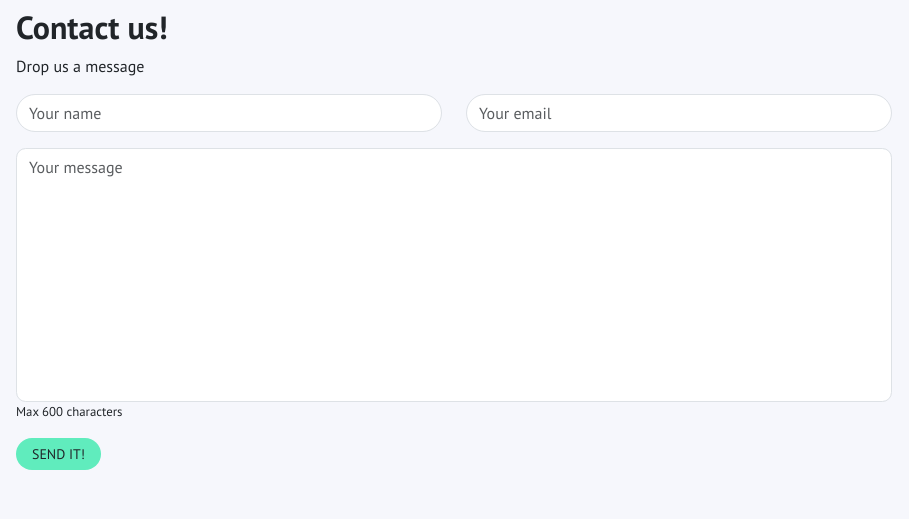
Contact form › display message after correctly submitted
This screenshot has width=909, height=519.
Type "Name" into the field with placeholder "Your name" at coordinates (229, 113), box [16, 94, 442, 132]
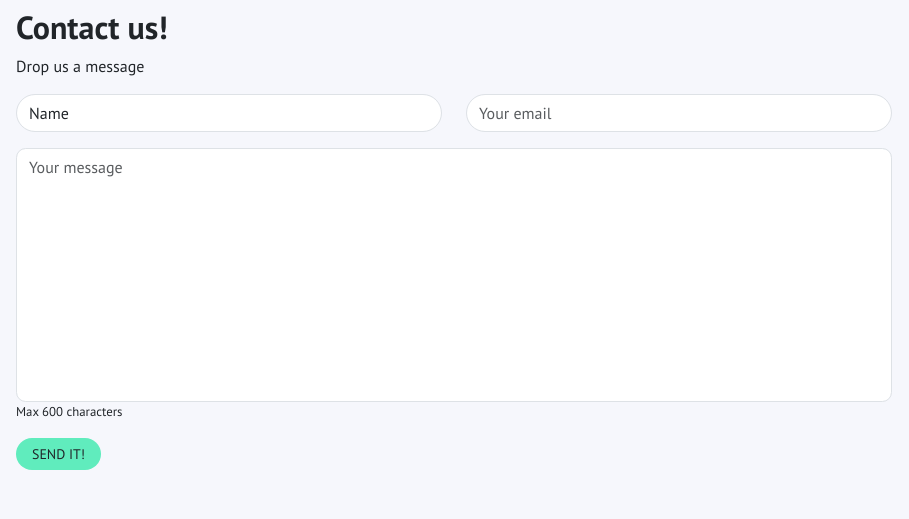
Type "email@test.com" into the field with placeholder "Your email" at coordinates (679, 113), box [466, 94, 892, 132]
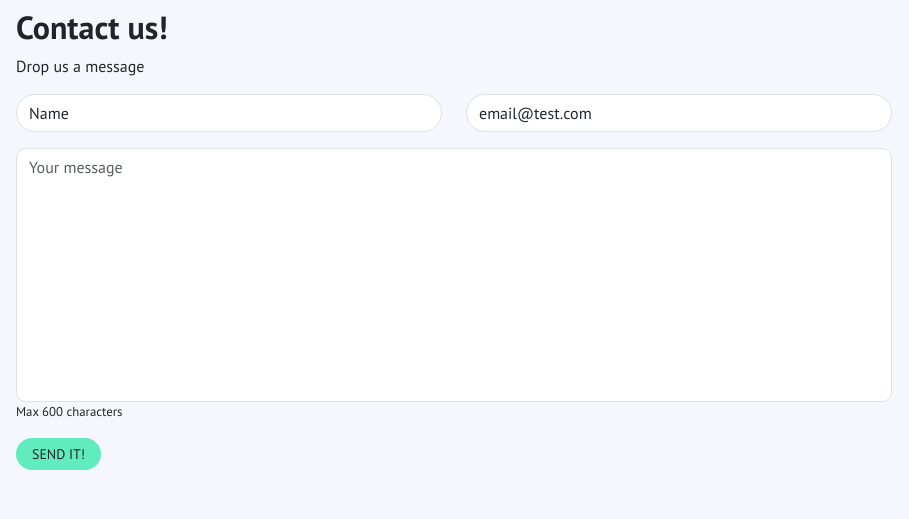
Type "Some valid message" into the text box with placeholder "Your message" at coordinates (454, 275), box [16, 148, 892, 402]
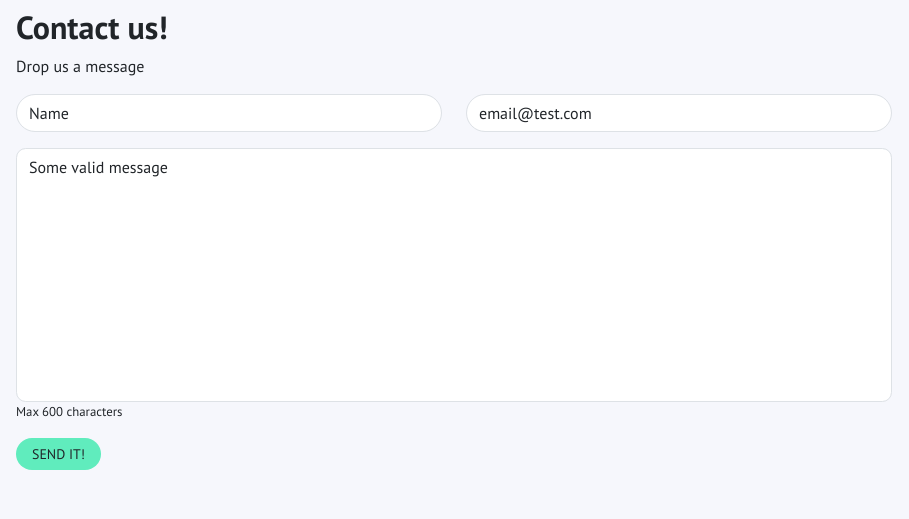
Click the button "Send it!" at coordinates (58, 454), box [16, 438, 101, 470]
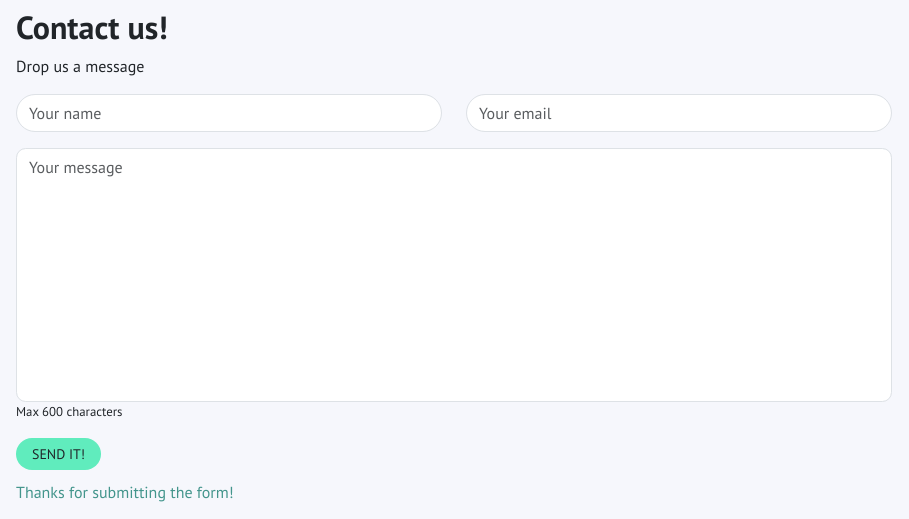
Expected: the text "Thanks for submitting the form!" is shown, [16, 482, 234, 502]
Expected: the field with placeholder "Your name" is empty, [16, 94, 442, 132]
Expected: the field with placeholder "Your email" is empty, [466, 94, 892, 132]
